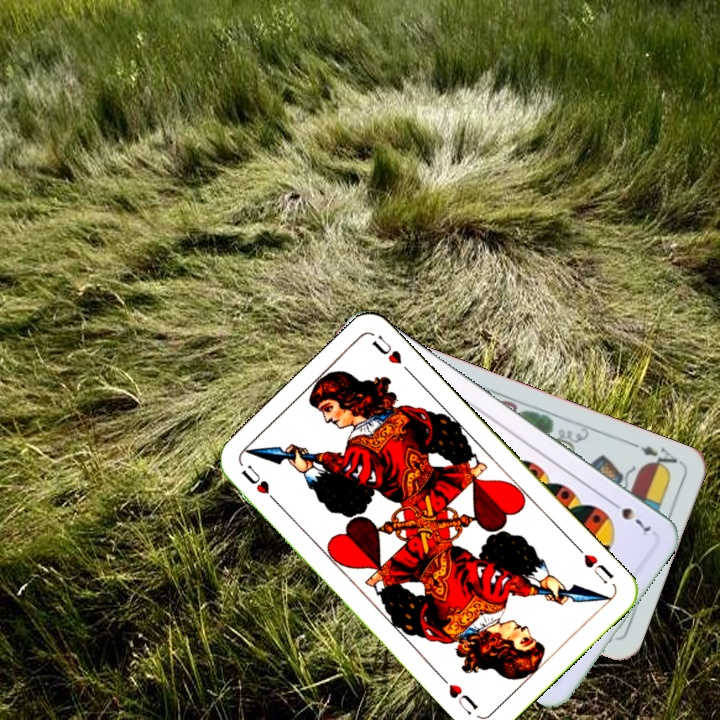EA: (626, 438, 683, 475)
HU: (237, 460, 282, 508), (572, 542, 617, 587)
S7: (605, 496, 654, 539)
